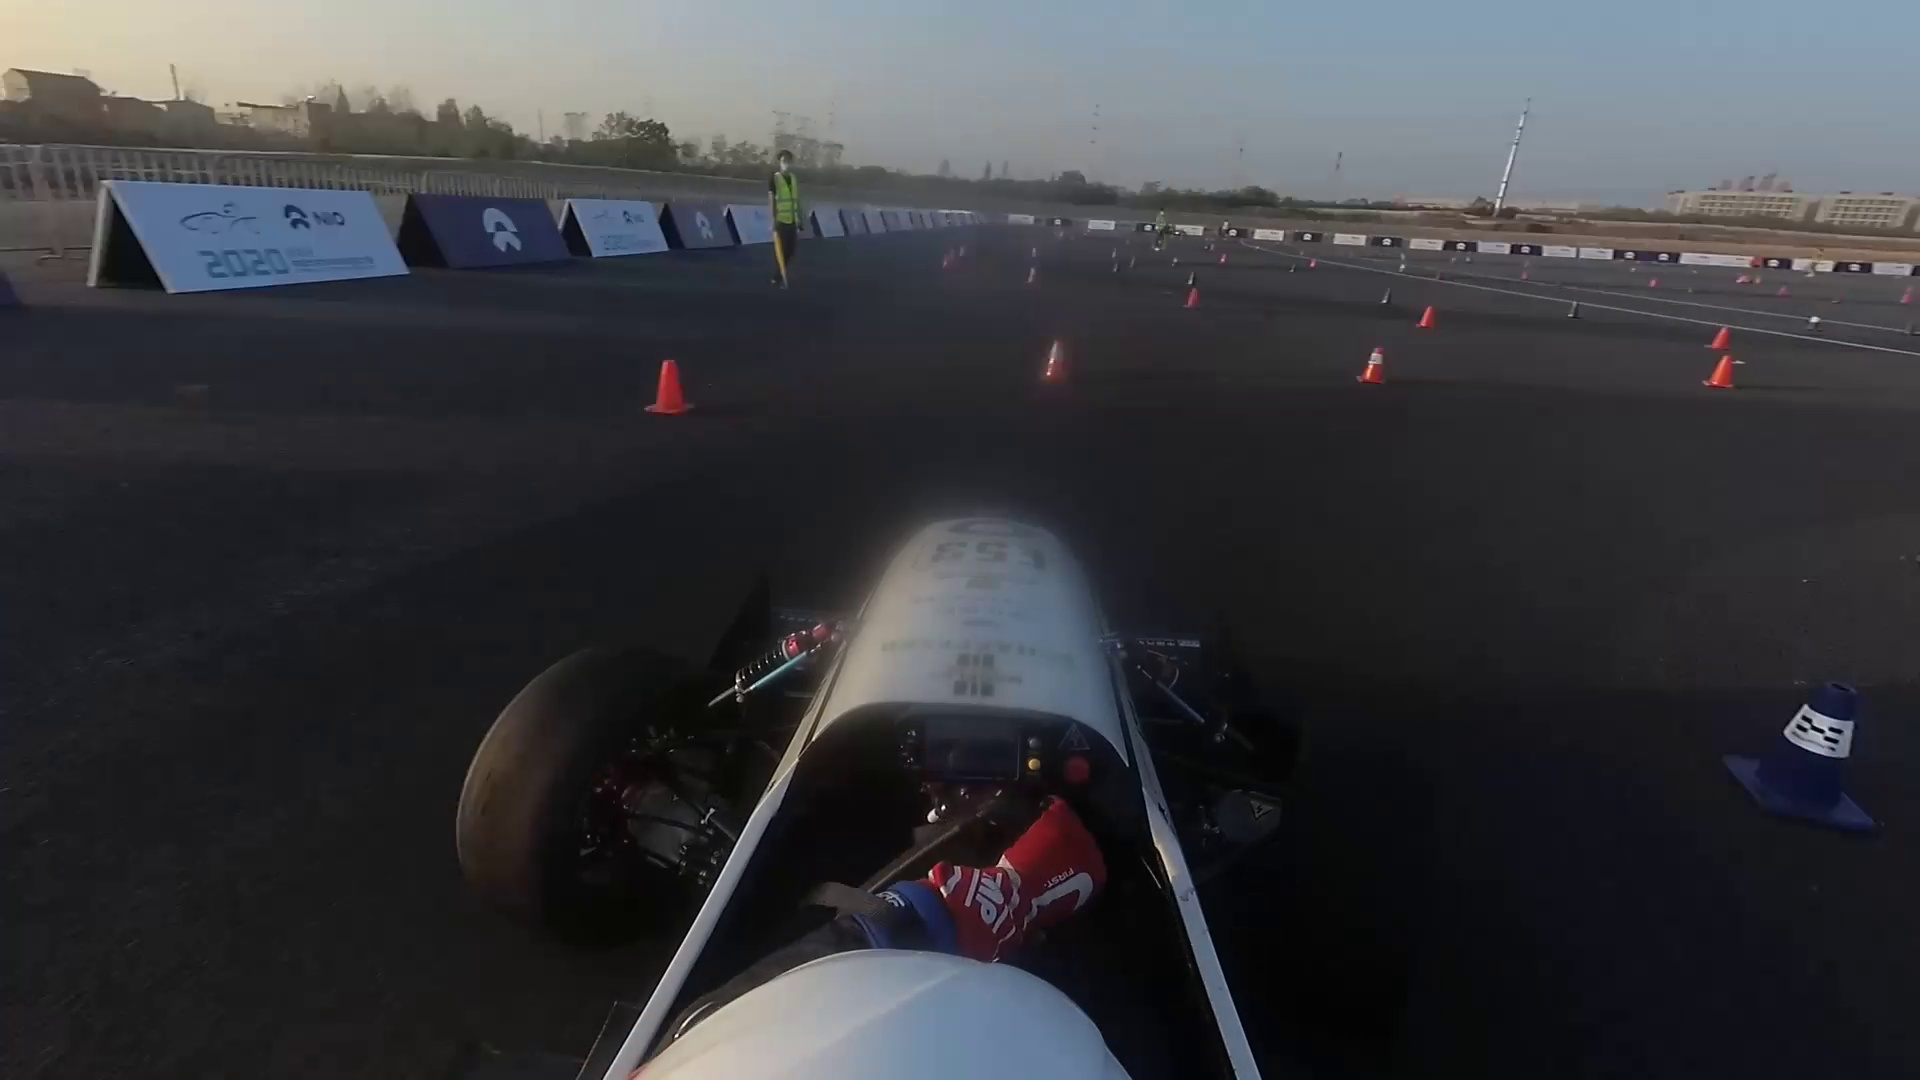blue_cone: (1704, 679, 1887, 837)
red_cone: (636, 364, 695, 415), (1033, 339, 1069, 388), (1360, 344, 1393, 386), (1702, 356, 1741, 388), (1414, 305, 1444, 336), (1706, 324, 1730, 351), (1185, 290, 1200, 309)
